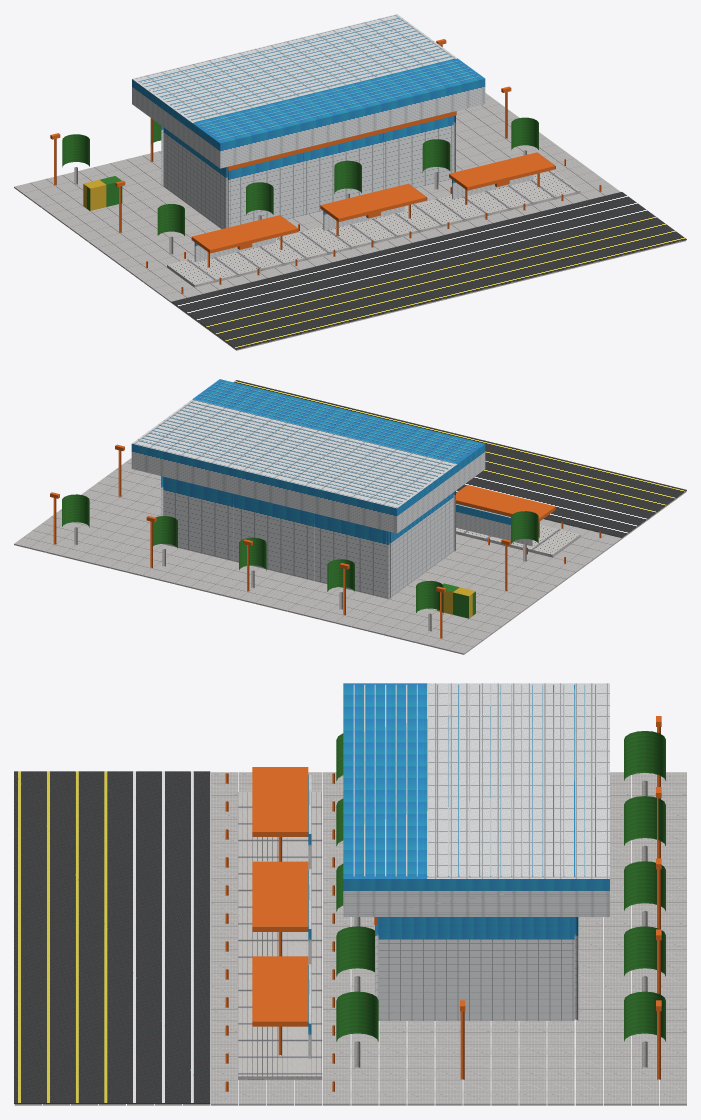
3 views of the same model, one above another, from view 1: azimuth 30°, elevation 25°; view 2: azimuth 150°, elevation 25°; view 3: azimuth 270°, elevation 25° (orthographic). The views are drawn at different scales.
Visible parts, largest first — view 1: 28185_B18_Technopark_Transit_Center; view 2: 28185_B18_Technopark_Transit_Center; view 3: 28185_B18_Technopark_Transit_Center.
Part boxes in pixels (bbox=[...]): 28185_B18_Technopark_Transit_Center: bbox=[14, 14, 686, 350]; 28185_B18_Technopark_Transit_Center: bbox=[14, 379, 686, 654]; 28185_B18_Technopark_Transit_Center: bbox=[14, 683, 686, 1105].
Size of the model in its own units: 56 by 12.55 by 48.
1 material, 1 textured.
